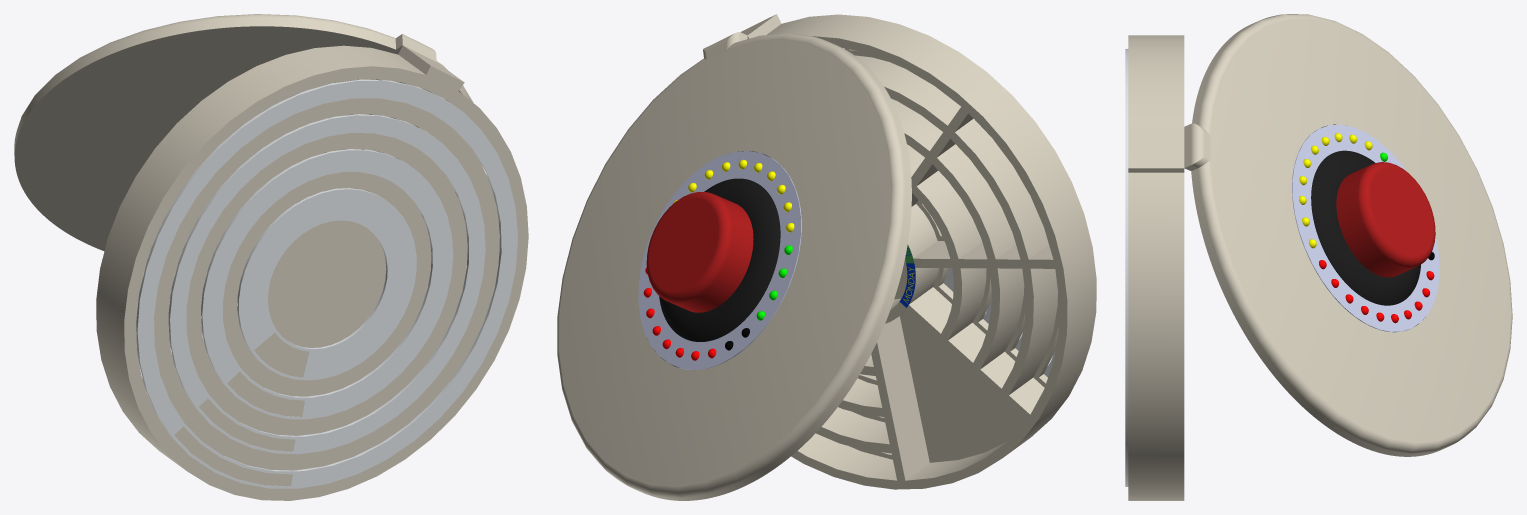
The model's file is pills_dispenser.dae.
3 renders of one model, left to right at view 1: azimuth 30°, elevation 25°; view 2: azimuth 150°, elevation 25°; view 3: azimuth 270°, elevation 25°, orthographic. The views are drawn at different scales.
Visible parts, largest first — view 1: Pill Chamber, Lid, Night Ring, Evening Ring, Lunch Ring, Morning Ring; view 2: Lid, Pill Chamber, LED ring, Button; view 3: Lid, Pill Chamber, Button, LED ring, Night Ring.
Boxes of the visible parts, x1,y1,x2,y2 form: Pill Chamber: (96, 45, 528, 500); Lid: (14, 14, 473, 251); Night Ring: (136, 79, 517, 488); Evening Ring: (168, 114, 485, 454); Lunch Ring: (201, 149, 453, 419); Morning Ring: (237, 188, 416, 380); Lid: (557, 32, 911, 500); Pill Chamber: (741, 14, 1096, 489); LED ring: (638, 150, 801, 369); Button: (646, 192, 753, 312); Lid: (1184, 14, 1512, 456); Pill Chamber: (1128, 35, 1184, 500); Button: (1336, 162, 1435, 277); LED ring: (1292, 124, 1439, 332); Night Ring: (1125, 49, 1128, 486).
Bounding box in the file's own units: 0.2617 × 0.2077 × 0.2604.
